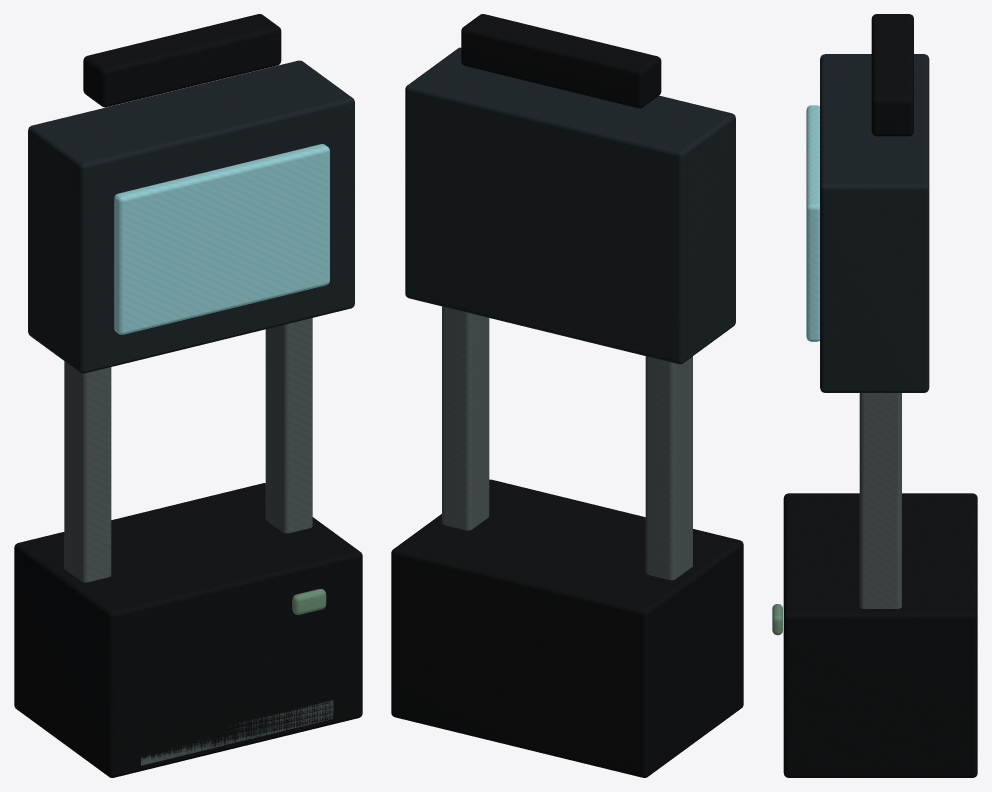
The model's file is PortableWorkLight.glb.
3 views of the same model, side by side, from view 1: azimuth 30°, elevation 25°; view 2: azimuth 150°, elevation 25°; view 3: azimuth 270°, elevation 25° (orthographic). The views are drawn at different scales.
Visible parts, largest first — view 1: PortableWorkLight_Mesh; view 2: PortableWorkLight_Mesh; view 3: PortableWorkLight_Mesh.
Boxes of the visible parts, x1,y1,x2,y2 form: PortableWorkLight_Mesh: (14,14,362,777); PortableWorkLight_Mesh: (391,14,743,777); PortableWorkLight_Mesh: (772,14,977,777).
Bounding box in the file's own units: 0.52 × 1.2 × 0.339.
Materials: 5 (5 with a texture image).
